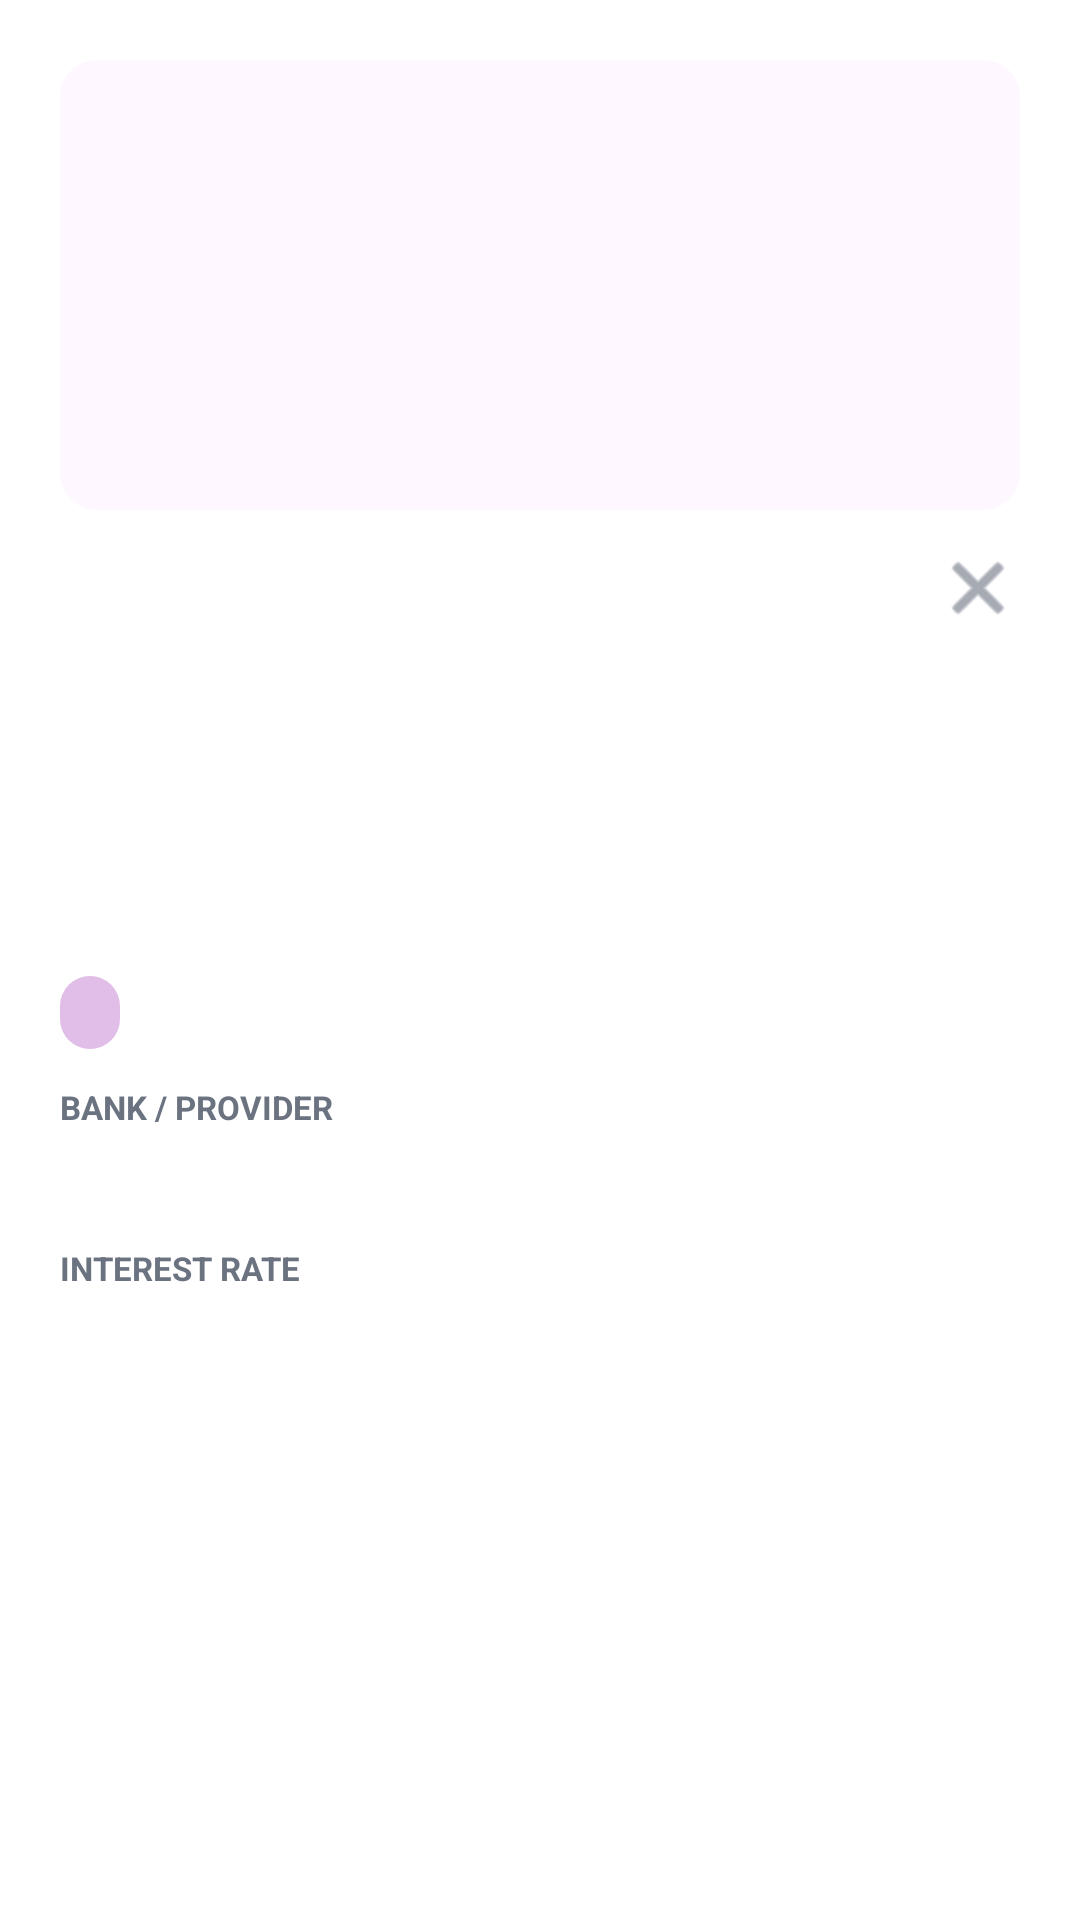

Icons on this 1080w x 1920h Android screen, each with its box as [left=x1, top=y1, right=x2, bottom=y2]:
close clear cancel: [left=952, top=562, right=1004, bottom=614]
